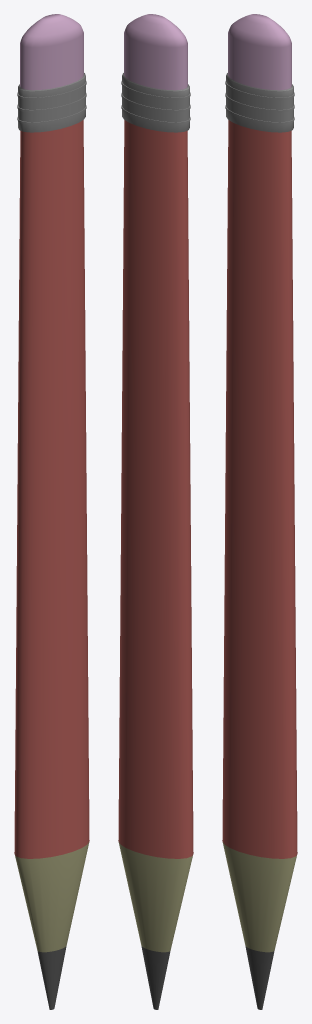
Rendered from Pencil.fbx.
3 views of the same model, side by side, from view 1: azimuth 30°, elevation 25°; view 2: azimuth 150°, elevation 25°; view 3: azimuth 330°, elevation 25° (orthographic).
Parts seen in each view (by area): view 1: Pencil; view 2: Pencil; view 3: Pencil.
Boxes of the visible parts, x1=… form: Pencil: x1=14, y1=14, x2=89, y2=1009; Pencil: x1=118, y1=14, x2=193, y2=1009; Pencil: x1=222, y1=14, x2=297, y2=1009.
Bounding box in the file's own units: 0.0277 × 0.3636 × 0.0135.
